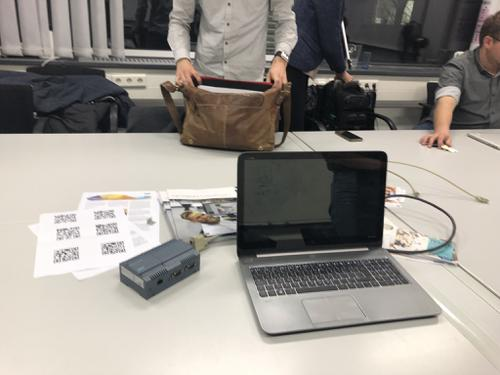device: (120, 239, 201, 301)
